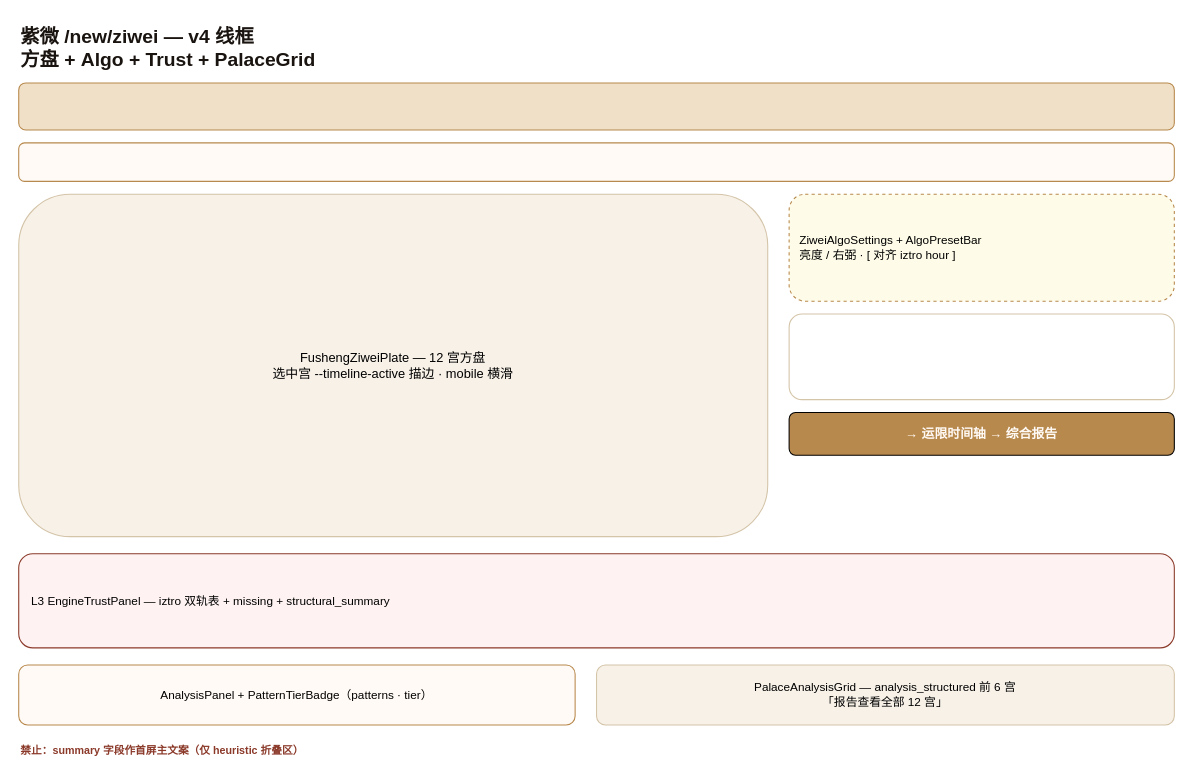
Some shapes in this 1193 by 781 pixel diagram are drawn without their labels. Each missing label, with the box of its shape:
L1 SummaryStrip：五行局 | 命宫 | 身宫 | 命主: (18, 82, 1174, 130)
ZiweiFlyingTab（飞星 · overlay 联动）: (788, 313, 1174, 400)
叠宫 toolbar：[ 本命● ] [ 大限 ] [ 流年 ] [ 流月 ] [ 飞星 ]: (18, 142, 1174, 181)
